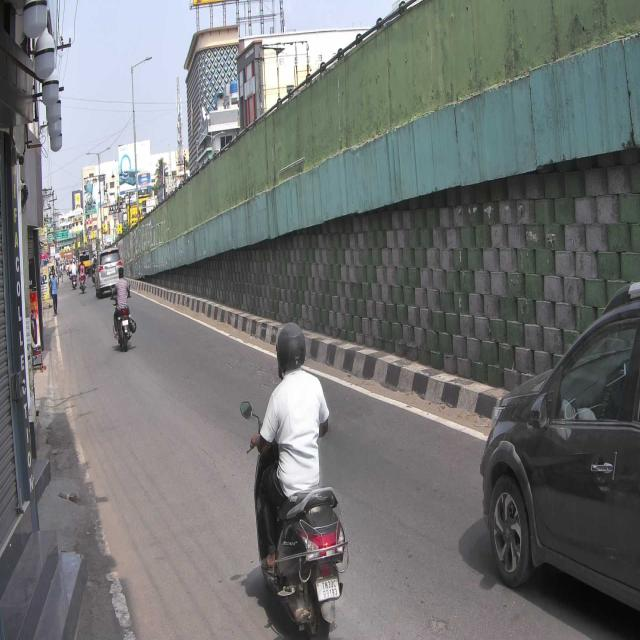single_rider: (242, 318, 346, 640)
